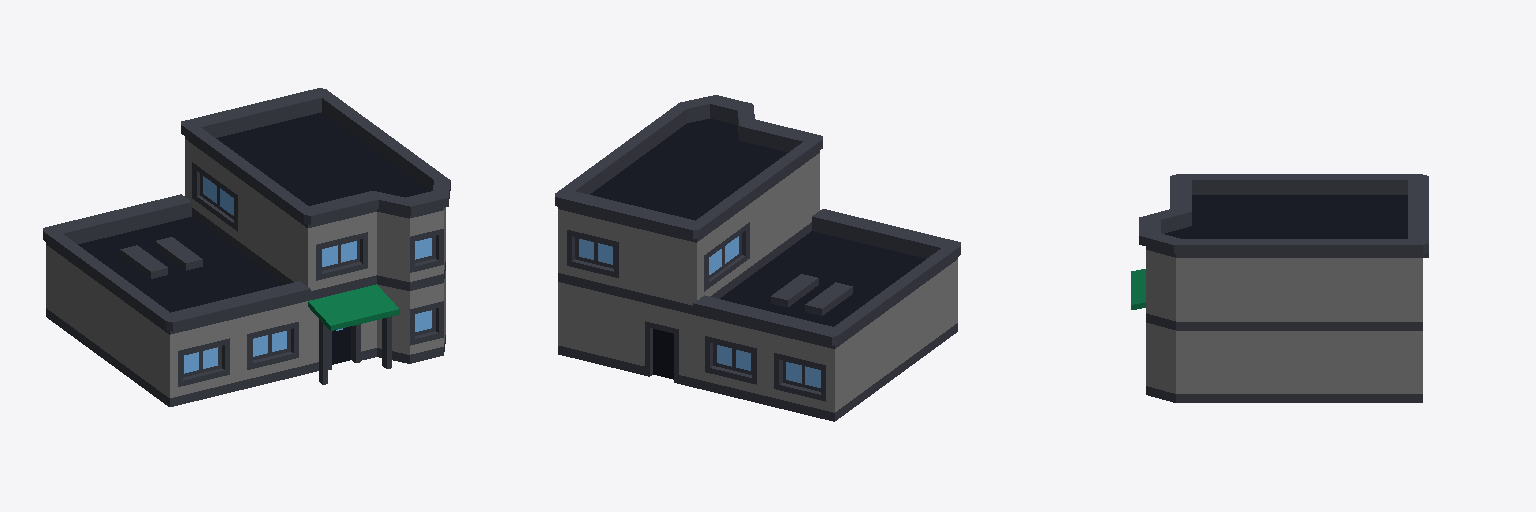
The model's file is gedungrektorat.obj.
3 renders of one model, left to right at view 1: azimuth 30°, elevation 25°; view 2: azimuth 150°, elevation 25°; view 3: azimuth 270°, elevation 25°, orthographic.
Visible parts, largest first — view 1: small_buildingE; view 2: small_buildingE; view 3: small_buildingE.
Boxes of the visible parts, <box> form: small_buildingE: <box>43,88,450,406</box>; small_buildingE: <box>555,95,960,421</box>; small_buildingE: <box>1131,174,1428,402</box>.
Bounding box in the file's own units: 5.3 × 2.86 × 4.83.